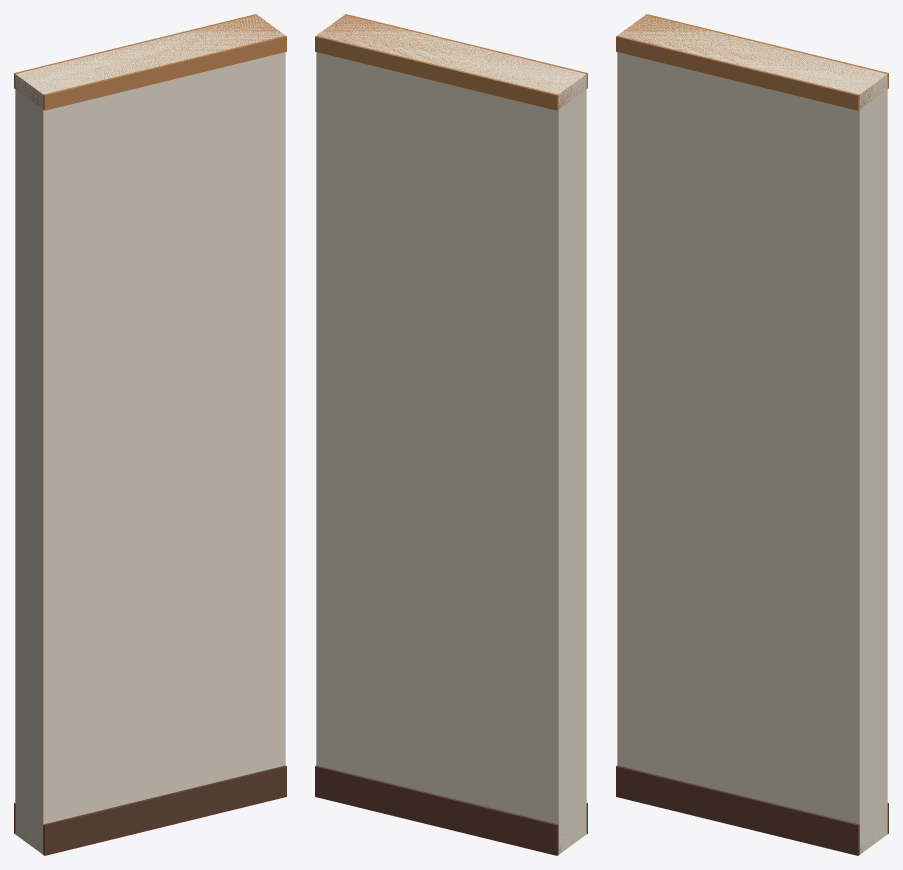
File: wall_straight_1m.glb
The picture shows the model from 3 angles, left to right: view 1: azimuth 30°, elevation 25°; view 2: azimuth 150°, elevation 25°; view 3: azimuth 330°, elevation 25°; orthographic projection.
Parts seen in each view (by area): view 1: wall_straight_1m; view 2: wall_straight_1m; view 3: wall_straight_1m.
Part boxes in pixels (box(x1,y1,x2,y2)): wall_straight_1m: box(14, 14, 286, 855); wall_straight_1m: box(315, 14, 587, 855); wall_straight_1m: box(616, 14, 888, 855).
Size of the model in its own units: 1 by 3 by 0.22.
